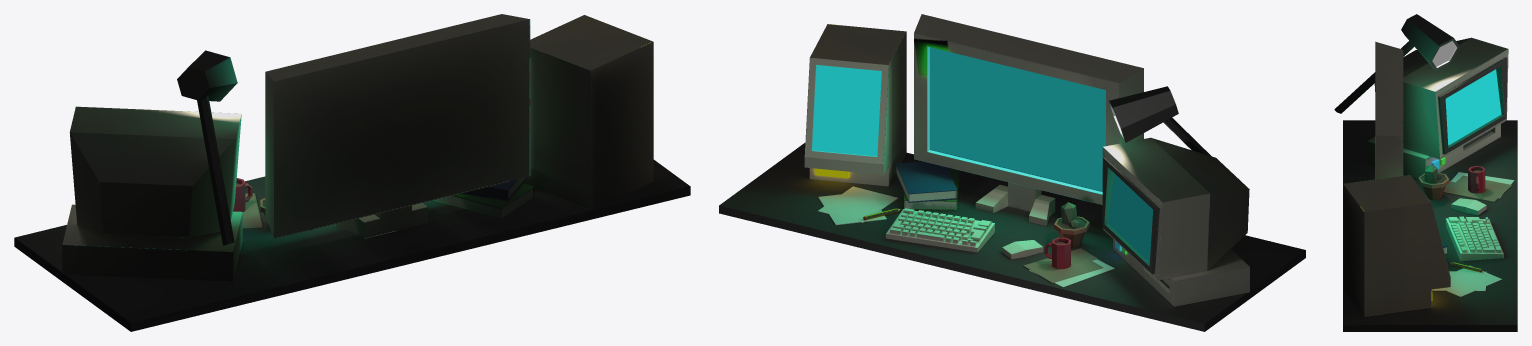
The model's file is menuinicio.fbx.
3 views of the same model, side by side, from view 1: azimuth 30°, elevation 25°; view 2: azimuth 150°, elevation 25°; view 3: azimuth 270°, elevation 25° (orthographic). The views are drawn at different scales.
Visible parts, largest first — view 1: Ordenador2, Ordenador3, Mesa, Ordenador1, Flexo, Libros, Carpeta; view 2: Ordenador2, Mesa, Ordenador3, Ordenador1, Teclado, Flexo, Libros, Folio, Carpeta, Plantita, Taza, Ratón; view 3: Mesa, Ordenador1, Ordenador3, Ordenador2, Flexo, Teclado, Carpeta, Folio, Plantita, Taza, Ratón.
Part boxes in pixels (x1,y1,x2,y2): Ordenador2: (265,14,530,238); Ordenador3: (62,106,242,281); Mesa: (14,160,690,331); Ordenador1: (523,15,653,210); Flexo: (177,50,237,245); Libros: (433,177,534,218); Carpeta: (242,193,262,229); Ordenador2: (914,14,1143,226); Mesa: (719,143,1305,331); Ordenador3: (1102,137,1249,306); Ordenador1: (804,24,906,186); Teclado: (885,208,994,252); Flexo: (1108,86,1211,156); Libros: (895,161,959,209); Folio: (817,186,898,225); Carpeta: (1023,248,1114,287); Plantita: (1054,202,1089,247); Taza: (1044,237,1070,268); Ratón: (1002,240,1043,259); Mesa: (1343,120,1517,331); Ordenador1: (1343,175,1450,316); Ordenador3: (1367,37,1508,178); Ordenador2: (1375,41,1403,179); Flexo: (1334,14,1459,113); Teclado: (1445,216,1503,261); Carpeta: (1443,172,1514,202); Folio: (1431,265,1502,297); Plantita: (1418,165,1449,199); Taza: (1468,166,1485,193); Ratón: (1451,198,1486,215).
Bounding box in the file's own units: 112 × 42.05 × 38.48.
Materials: 13 (13 with a texture image).
